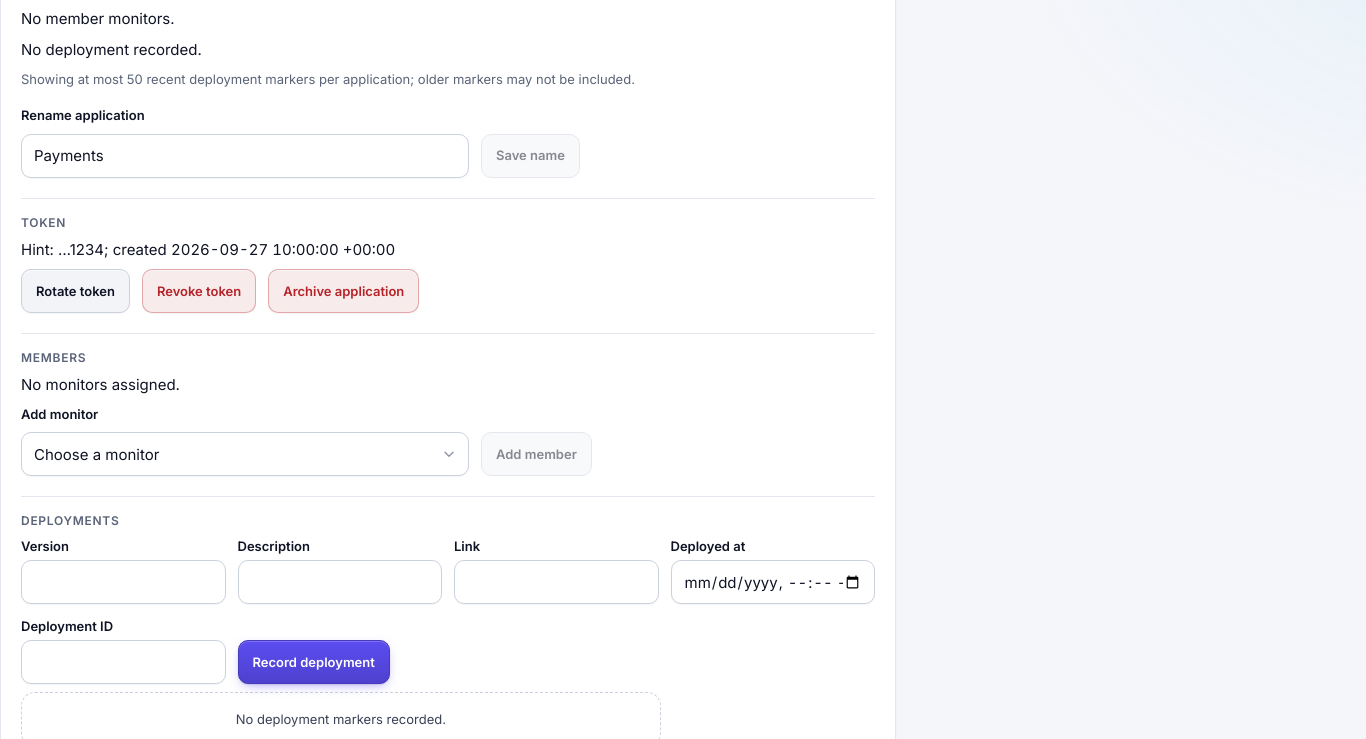
Test case: keeps manual marker inputs after field validation and surfaces the backend field error
(page scrolled)
Type "1.2.3" into the field labelled "Version".
click(123, 582); type("1.2.3")  # box x1=21 y1=560 x2=226 y2=604
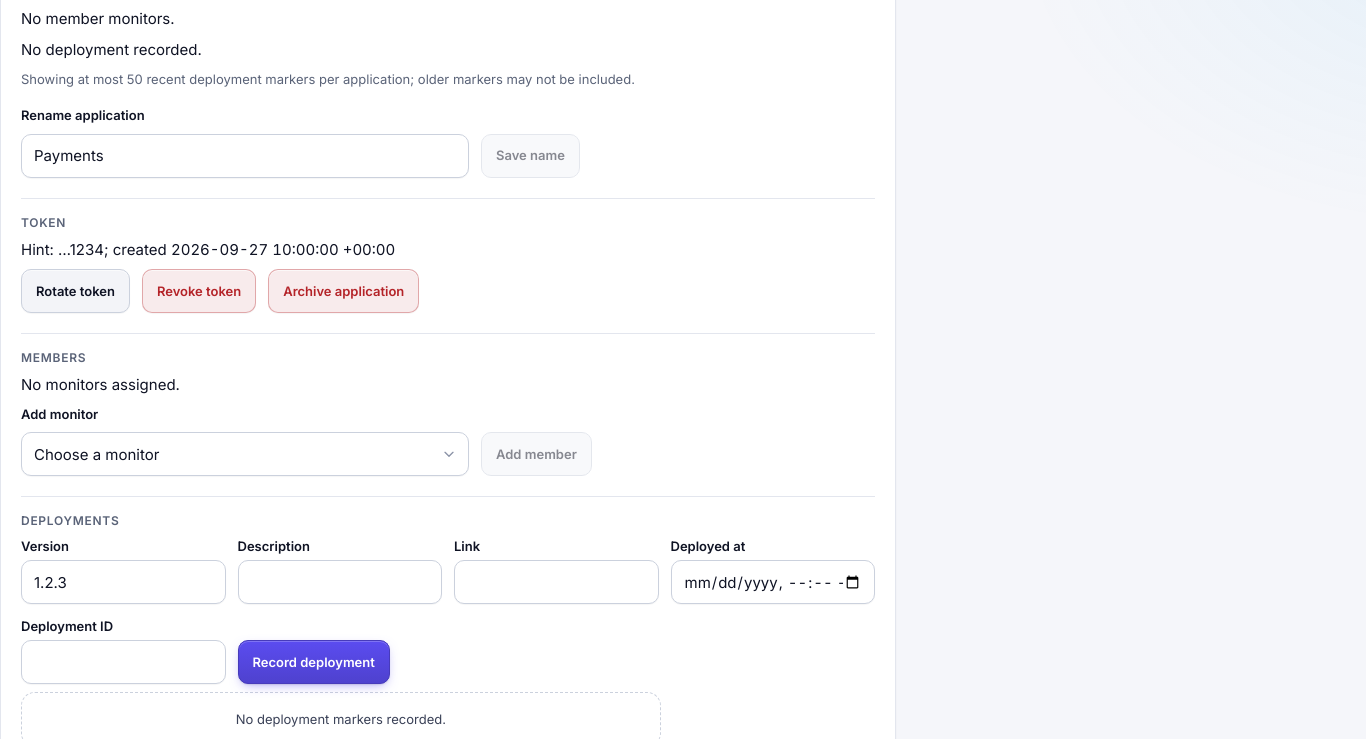
Type "https://example.invalid/release" into the field labelled "Link".
click(556, 582); type("https://example.invalid/release")  # box x1=454 y1=560 x2=658 y2=604
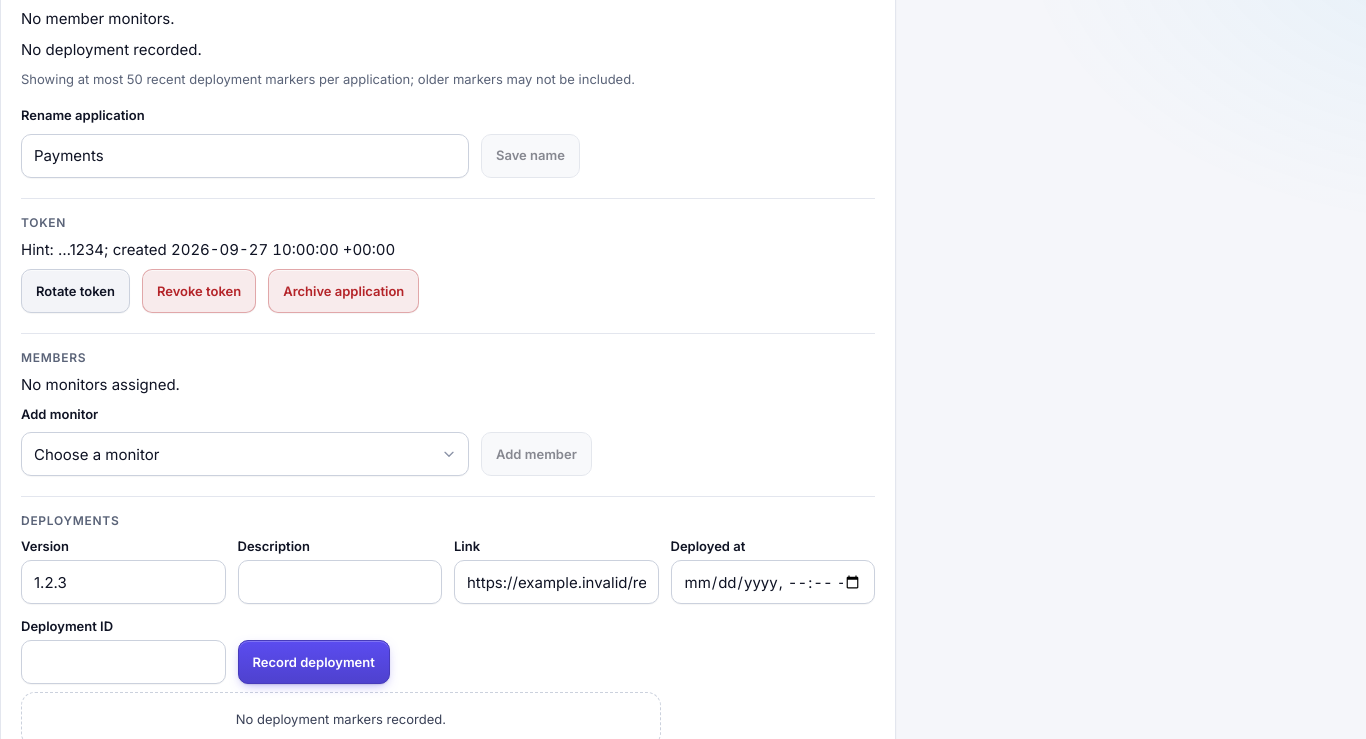
Click the button "Record deployment".
click(314, 662)  # box x1=238 y1=640 x2=390 y2=684
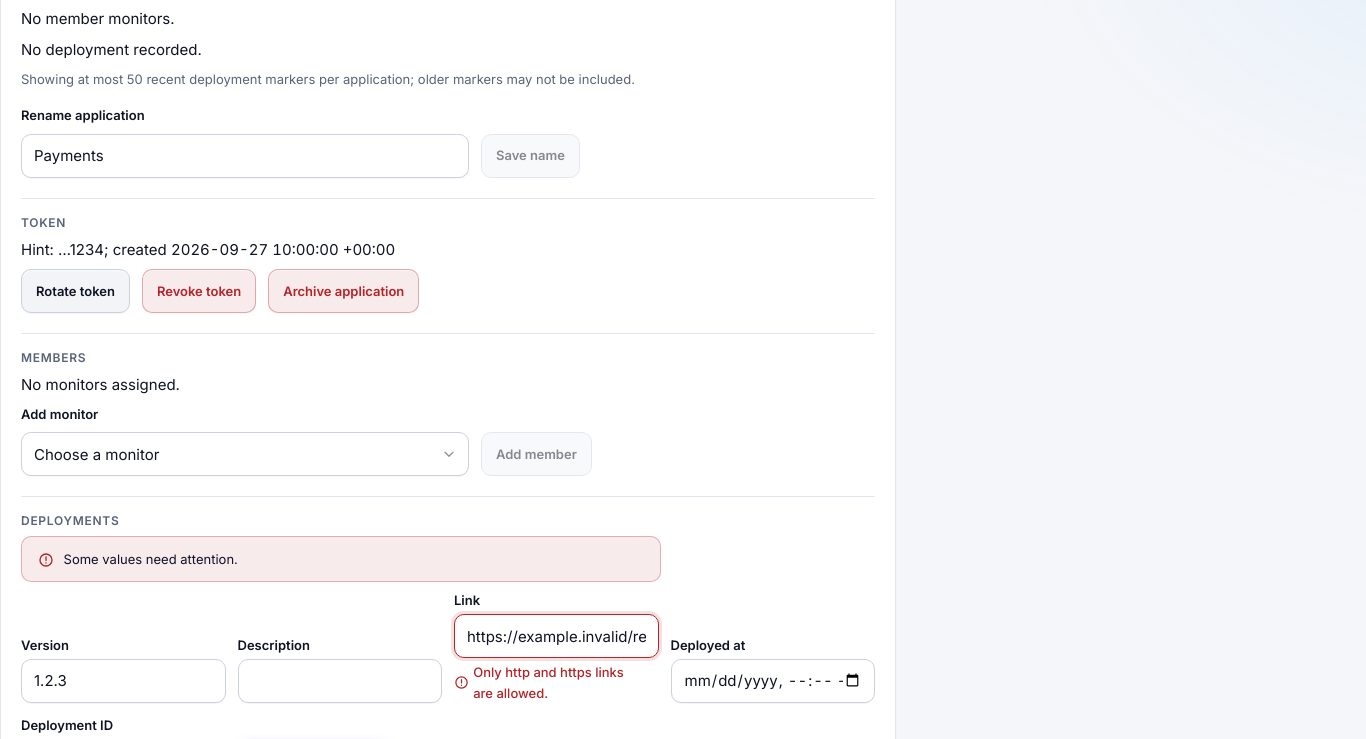
Result: the text "Only http and https links are allowed." is shown at x1=473 y1=664 x2=624 y2=701
